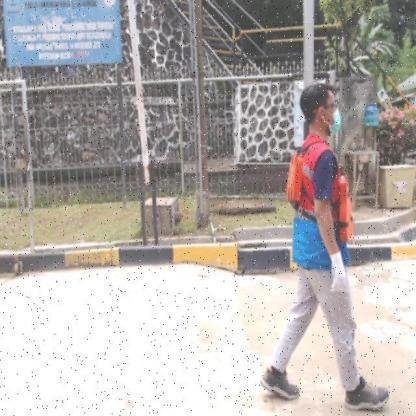boots: (344, 375, 390, 413), (259, 366, 301, 402)
gloves: (327, 252, 348, 292)
goggles: (318, 100, 340, 112)
mask: (328, 111, 342, 139)
vest: (286, 150, 356, 243)
